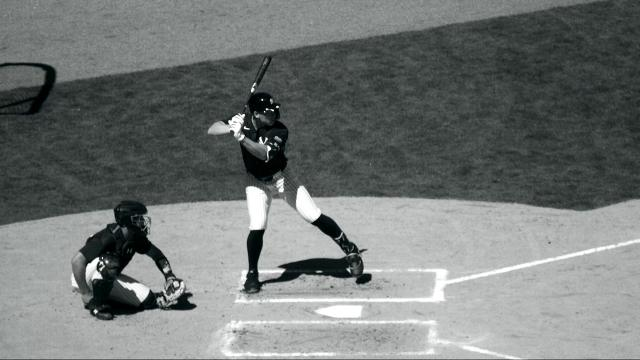bat: (240, 56, 272, 118)
